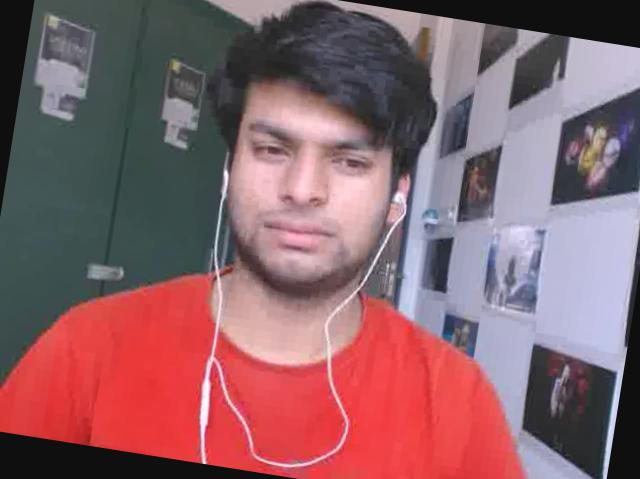bingung: (216, 69, 407, 290)
